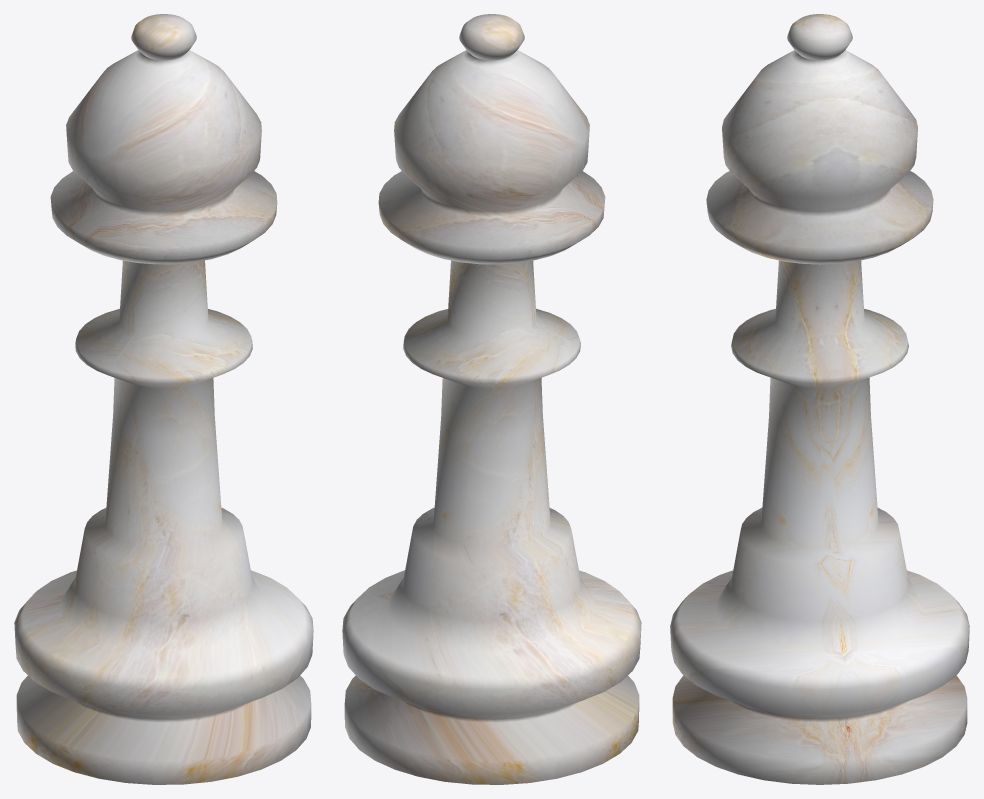
The model's file is bishop.glb.
The picture shows the model from 3 angles, left to right: view 1: azimuth 30°, elevation 25°; view 2: azimuth 150°, elevation 25°; view 3: azimuth 270°, elevation 25°; orthographic projection.
Visible parts, largest first — view 1: Cylinder; view 2: Cylinder; view 3: Cylinder.
Part boxes in pixels (x1,y1,x2,y2): Cylinder: [14, 14, 313, 784]; Cylinder: [342, 14, 641, 784]; Cylinder: [670, 14, 969, 784].
Size of the model in its own units: 6.1 by 15.78 by 6.1.
Materials: 1 (1 with a texture image).
